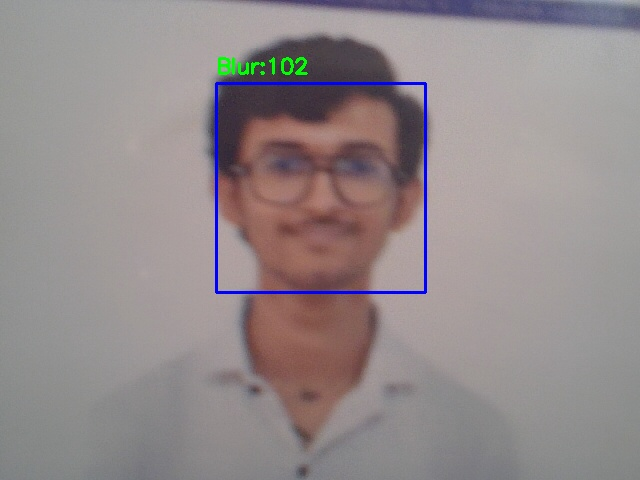fake: (216, 83, 425, 292)
